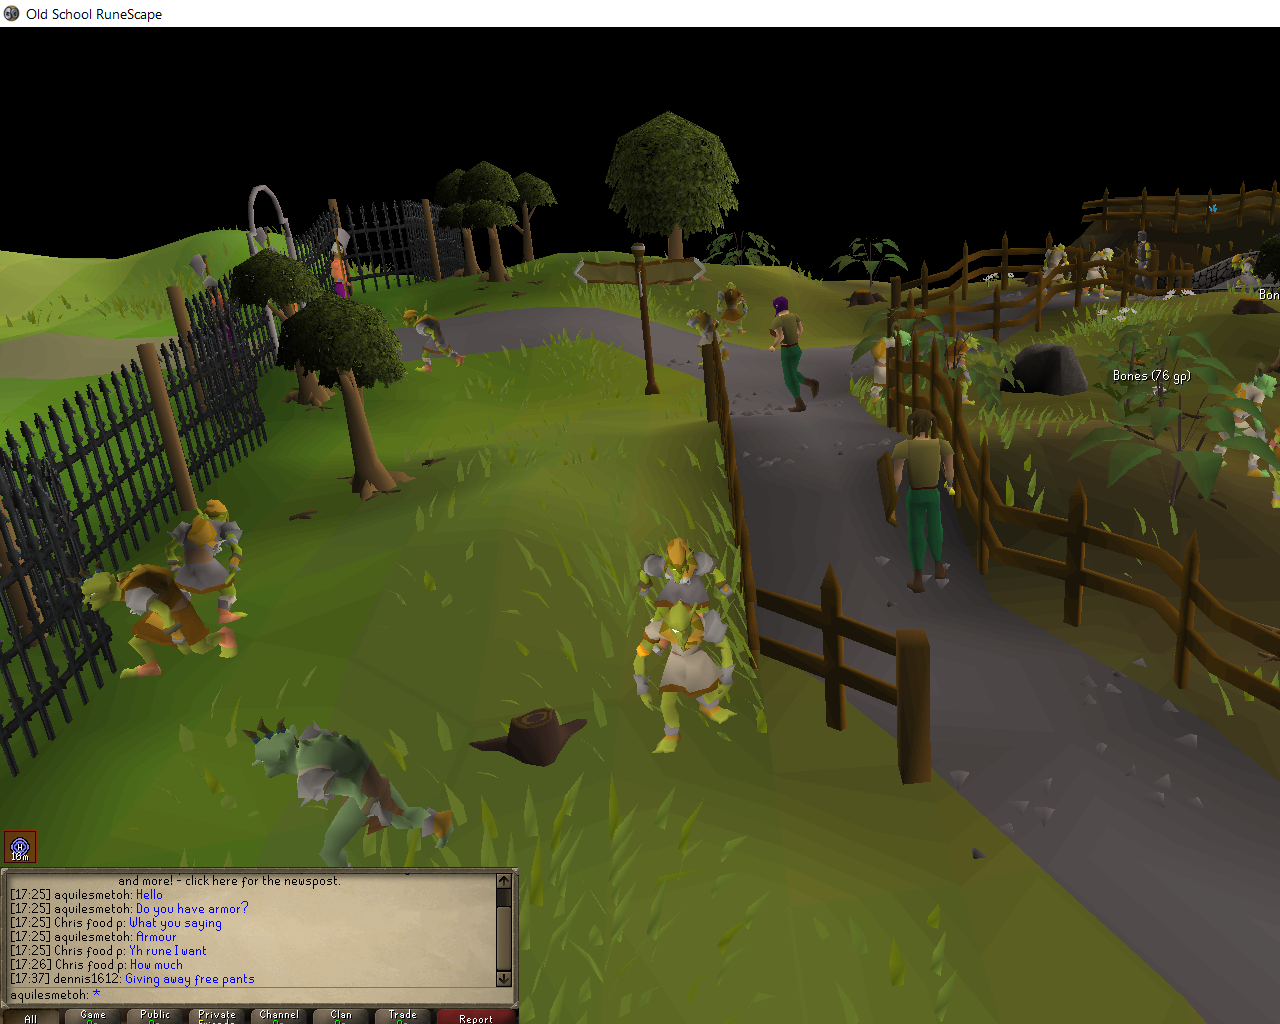Goblin: (232, 714, 448, 874), (632, 598, 746, 758), (79, 564, 237, 679), (630, 525, 740, 673), (163, 493, 254, 627), (1198, 364, 1277, 476), (397, 307, 470, 376), (869, 326, 915, 408), (939, 331, 986, 408), (680, 305, 734, 365), (1256, 424, 1280, 511), (716, 280, 751, 339), (1081, 246, 1116, 299), (1041, 242, 1073, 298), (1227, 253, 1265, 289)
